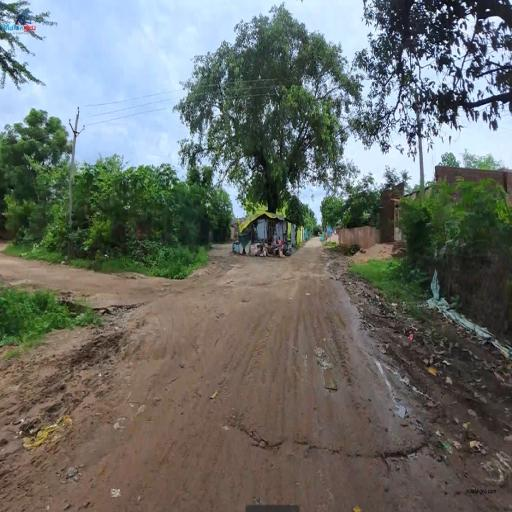edge_damage: (231, 409, 446, 489)
